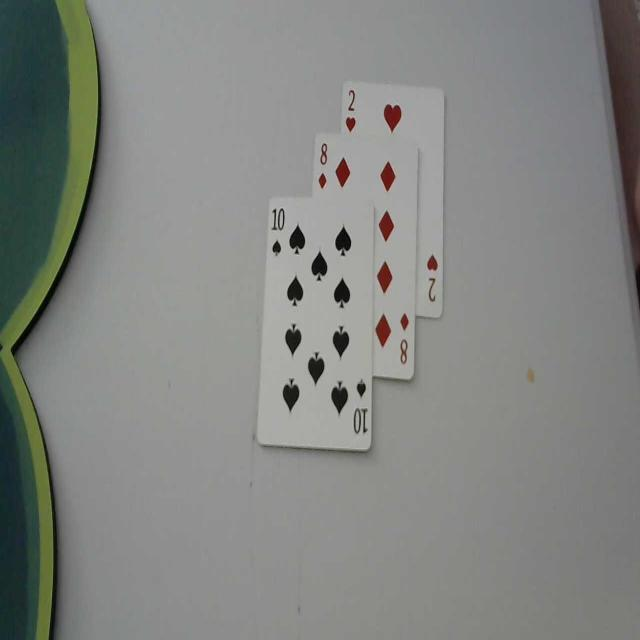10S: (267, 200, 287, 262), (353, 373, 371, 438)
2H: (425, 248, 441, 305), (346, 85, 358, 135)
8D: (397, 307, 411, 369), (317, 137, 331, 192)
